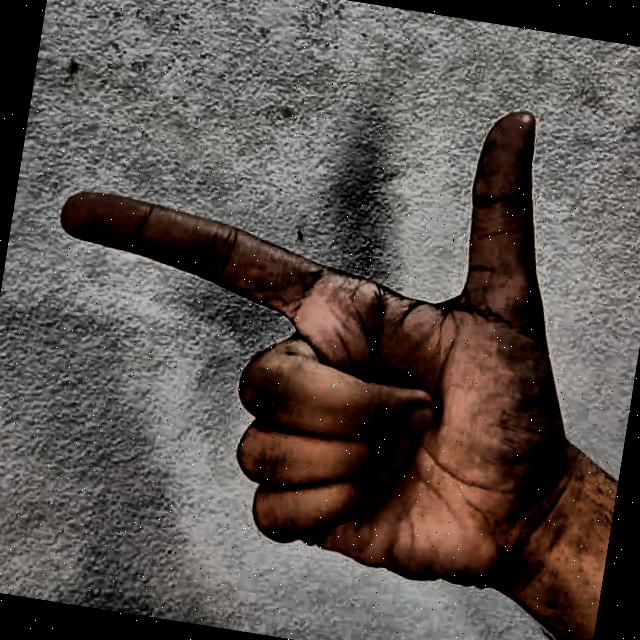Tha: (0, 21, 627, 640)
